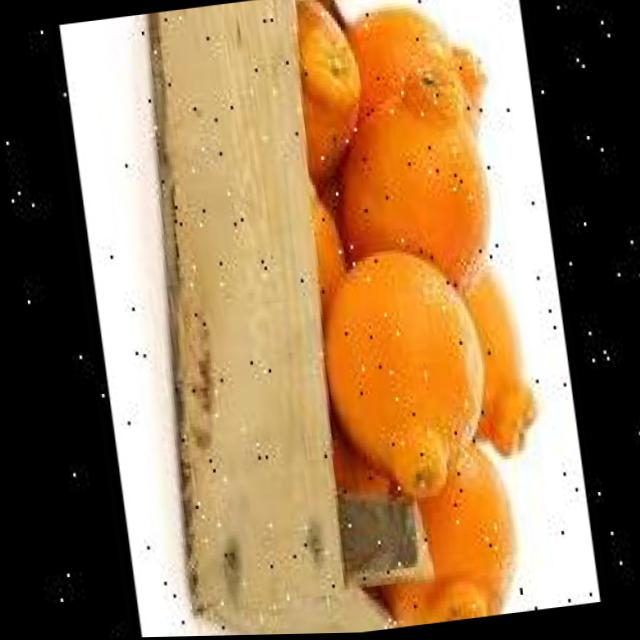orange: (306, 243, 499, 514), (319, 73, 495, 283), (356, 441, 519, 629), (335, 1, 469, 142), (286, 0, 371, 192), (327, 422, 390, 507)
